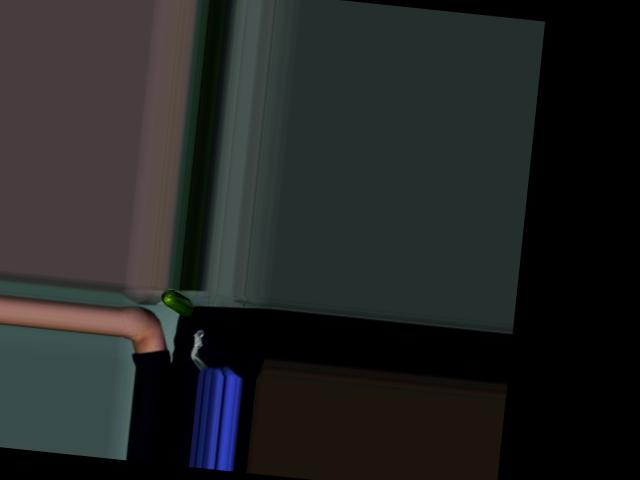cucumber: (159, 288, 195, 317)
